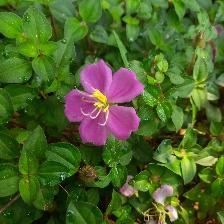malabar melastome: (64, 61, 146, 150)
